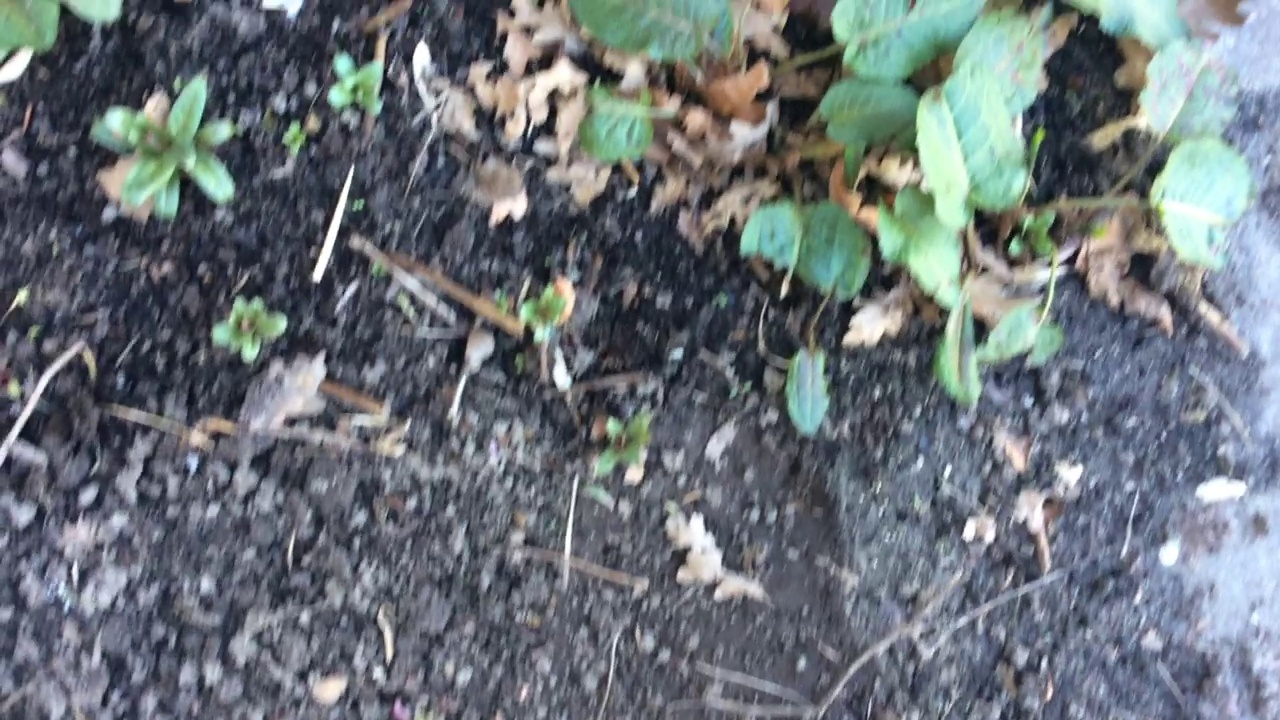rumex: (587, 7, 1240, 422), (1, 1, 128, 66)
